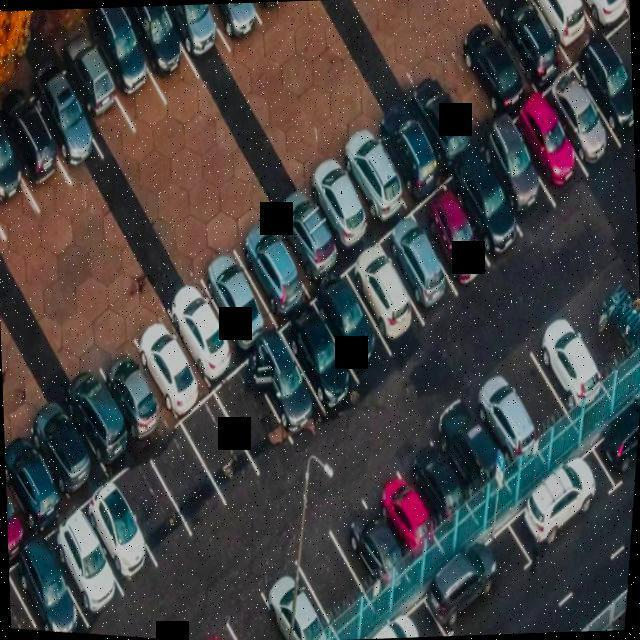space-empty: (288, 523, 371, 632), (151, 416, 234, 523), (499, 336, 574, 454), (561, 284, 638, 396), (419, 46, 499, 151), (221, 348, 293, 463), (118, 455, 200, 554), (185, 389, 259, 496), (217, 594, 301, 640), (9, 569, 60, 630)
space-occupied: (8, 385, 108, 508), (74, 325, 167, 453), (429, 520, 530, 636), (515, 438, 615, 554), (116, 303, 210, 424), (147, 283, 240, 401), (49, 359, 138, 475), (282, 282, 367, 401), (322, 494, 419, 597), (448, 142, 533, 257), (485, 108, 559, 237), (186, 252, 277, 355), (414, 171, 498, 282), (243, 316, 326, 427), (323, 124, 414, 225), (294, 147, 377, 254), (348, 229, 428, 340), (515, 82, 586, 207), (465, 353, 540, 471), (451, 11, 529, 124), (546, 61, 622, 176), (527, 312, 607, 417), (360, 96, 446, 193), (366, 458, 443, 566), (227, 224, 312, 318), (395, 420, 470, 526), (263, 187, 344, 283), (482, 0, 568, 88), (383, 208, 461, 305), (426, 392, 504, 489), (49, 517, 124, 617), (86, 481, 159, 583), (397, 72, 478, 163), (35, 57, 103, 164), (0, 96, 72, 197), (574, 34, 635, 153), (323, 267, 397, 365), (4, 425, 66, 535), (59, 41, 132, 133), (255, 557, 334, 640), (15, 546, 86, 633), (120, 5, 188, 87), (94, 6, 160, 89), (511, 0, 587, 62), (347, 592, 442, 639), (0, 115, 40, 220), (5, 447, 38, 572), (163, 3, 228, 54), (561, 0, 630, 39), (197, 2, 272, 37)
